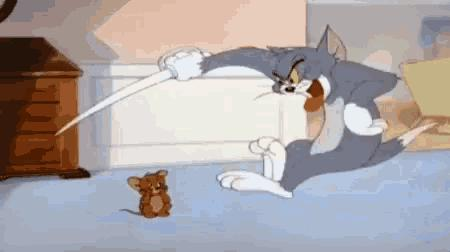jerry: (117, 169, 178, 220)
